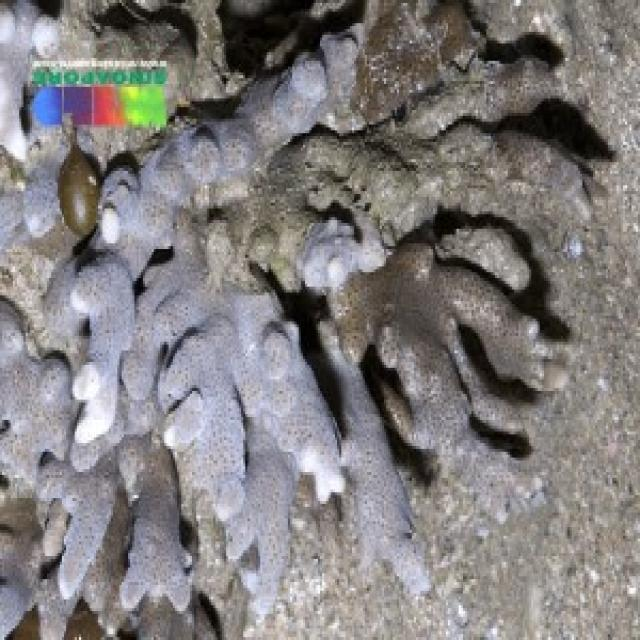Bleached: (3, 288, 346, 550), (87, 83, 328, 287), (1, 1, 63, 250), (333, 390, 403, 569)
Healthy: (343, 11, 602, 384)
